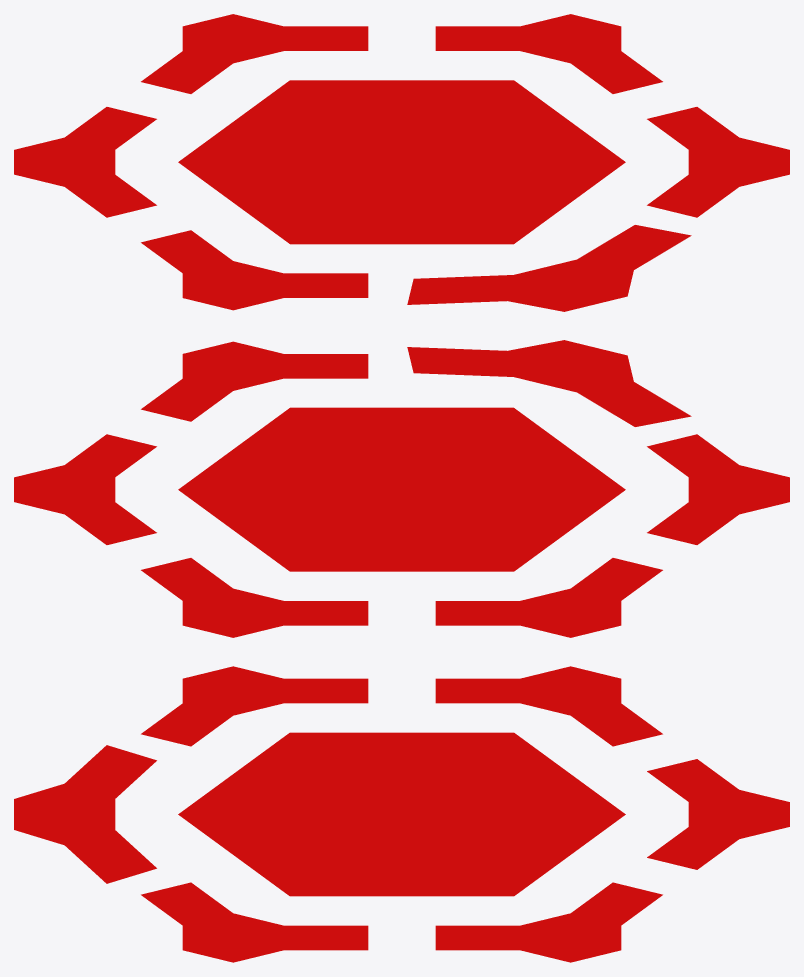
The model's file is Mine.fbx.
3 renders of one model, top to bottom at view 1: azimuth 30°, elevation 25°; view 2: azimuth 150°, elevation 25°; view 3: azimuth 270°, elevation 25°, orthographic.
Parts seen in each view (by area): view 1: Core, Tri_05, Tri_02, Tri_03, Tri_06, Tri_04, Tri_01; view 2: Core, Tri_05, Tri_01, Tri_02, Tri_04, Tri_06, Tri_03; view 3: Core, Tri_05, Tri_01, Tri_03, Tri_04, Tri_06, Tri_02.
Part boxes in pixels (x1=…): Core: x1=178, y1=80, x2=625, y2=244; Tri_05: x1=407, y1=225, x2=691, y2=311; Tri_02: x1=141, y1=14, x2=368, y2=93; Tri_03: x1=435, y1=14, x2=662, y2=93; Tri_06: x1=141, y1=230, x2=368, y2=310; Tri_04: x1=647, y1=107, x2=789, y2=217; Tri_01: x1=14, y1=107, x2=156, y2=217; Core: x1=178, y1=407, x2=625, y2=571; Tri_05: x1=407, y1=340, x2=691, y2=426; Tri_01: x1=435, y1=558, x2=662, y2=637; Tri_02: x1=141, y1=558, x2=368, y2=637; Tri_04: x1=141, y1=341, x2=368, y2=421; Tri_06: x1=647, y1=434, x2=789, y2=544; Tri_03: x1=14, y1=434, x2=156, y2=544; Core: x1=178, y1=732, x2=625, y2=896; Tri_05: x1=14, y1=745, x2=156, y2=883; Tri_01: x1=435, y1=666, x2=662, y2=746; Tri_03: x1=435, y1=882, x2=662, y2=962; Tri_04: x1=141, y1=882, x2=368, y2=962; Tri_06: x1=141, y1=666, x2=368, y2=746; Tri_02: x1=647, y1=759, x2=789, y2=869.
Size of the model in its own units: 1.2 by 1.19e-07 by 1.33.
